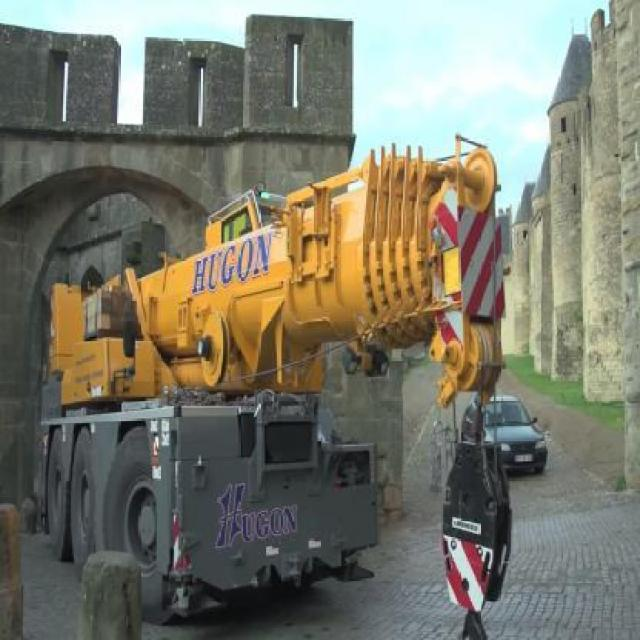Mobile Crane: (40, 140, 503, 638)
